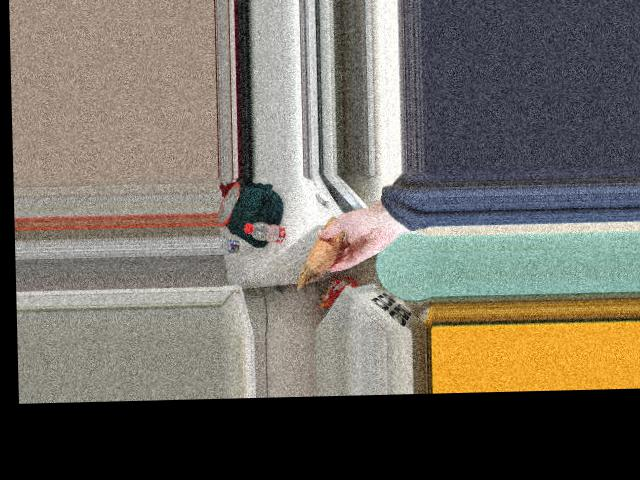sweet_potato: (305, 223, 351, 270)
